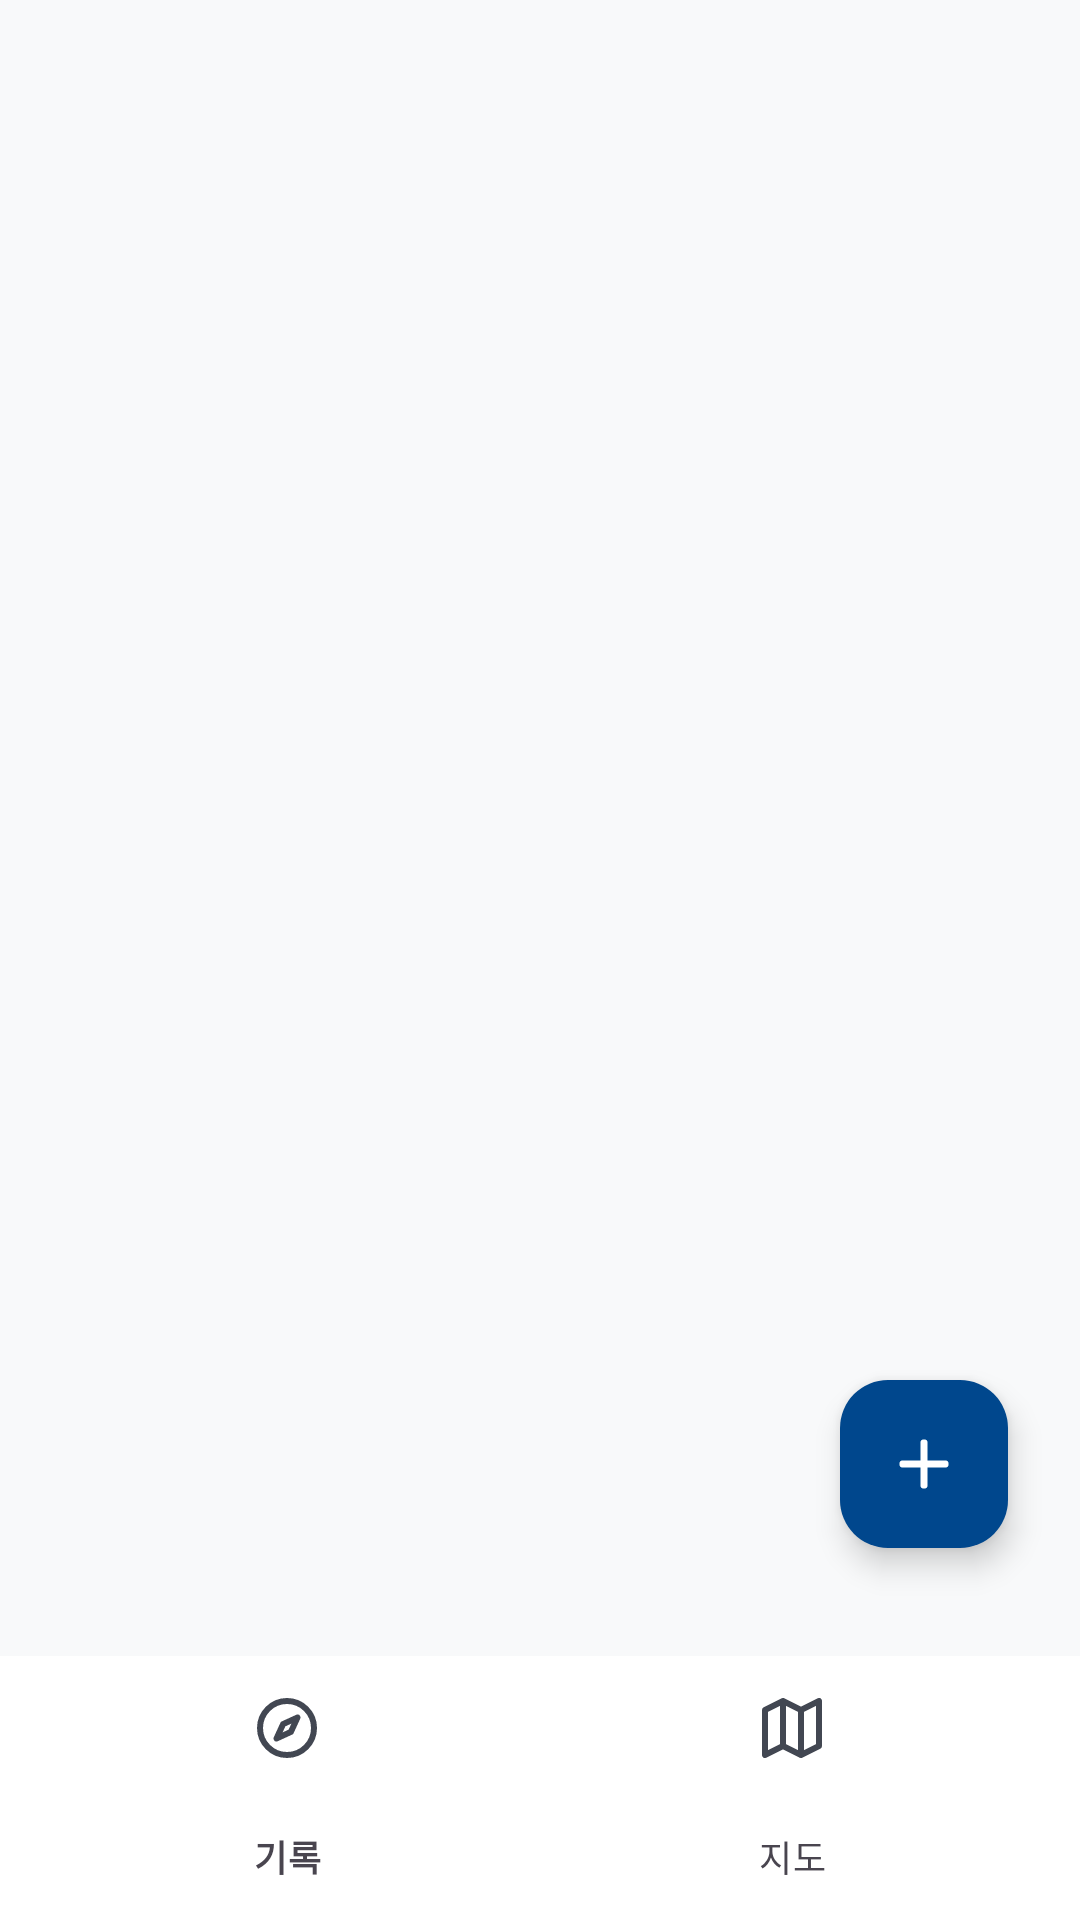

Named icons in this screenshot (1080px×1920px) and their bounding boxes, (x1, y1, x2, y2):
여행 기록 추가: (840, 1380, 1008, 1548)
